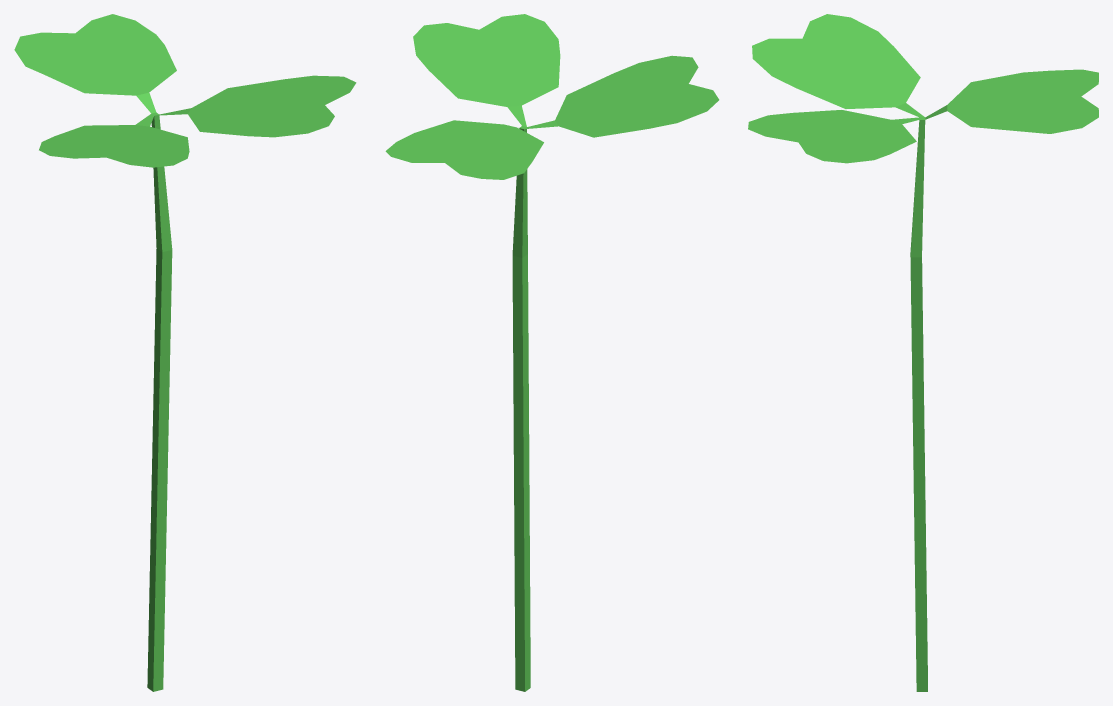
The model's file is clover.glb.
3 renders of one model, left to right at view 1: azimuth 30°, elevation 25°; view 2: azimuth 150°, elevation 25°; view 3: azimuth 270°, elevation 25°, orthographic. The views are drawn at different scales.
Visible parts, largest first — view 1: Clover.001; view 2: Clover.001; view 3: Clover.001.
Part boxes in pixels (x1,y1,x2,y2): Clover.001: (14,14,356,691); Clover.001: (385,14,719,691); Clover.001: (748,14,1098,691).
Size of the model in its own units: 1.78 by 3.38 by 1.78.
